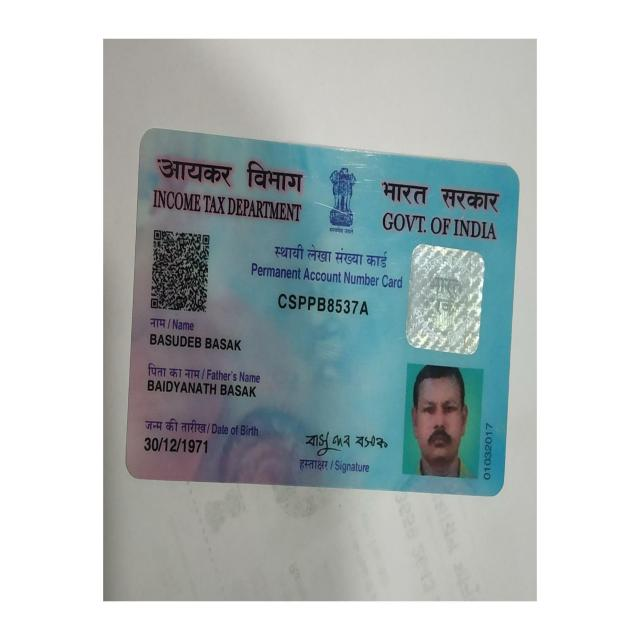pan_card: (129, 137, 518, 491)
